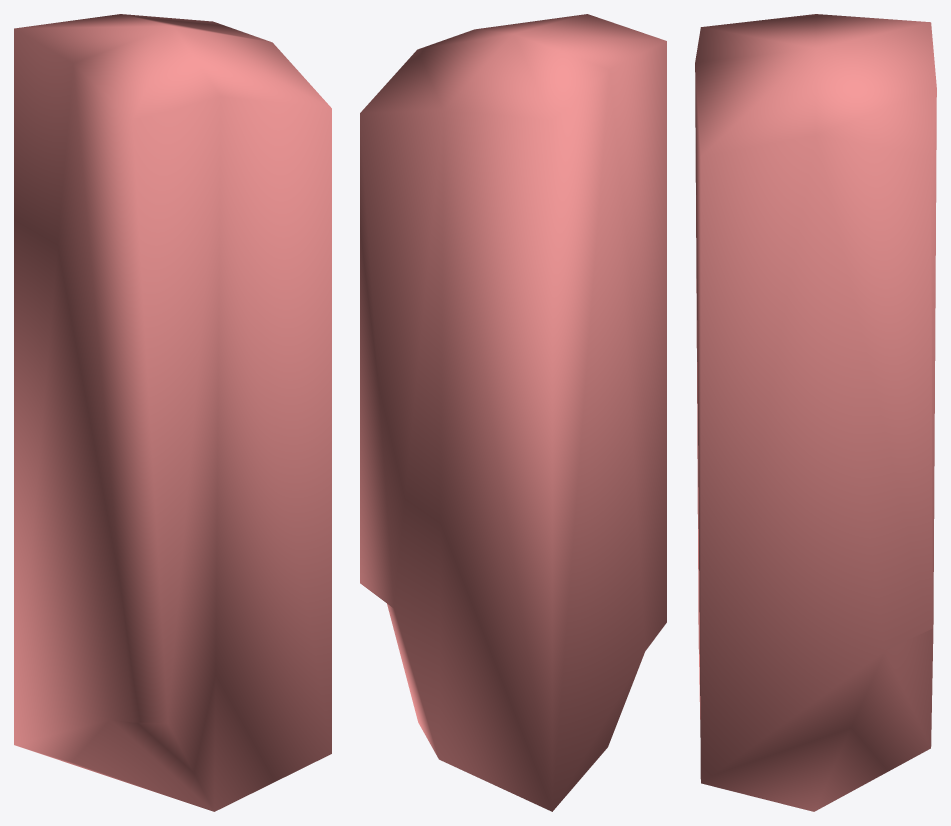
The model's file is skruins_pillar09.gltf.
3 renders of one model, left to right at view 1: azimuth 30°, elevation 25°; view 2: azimuth 150°, elevation 25°; view 3: azimuth 270°, elevation 25°, orthographic. The views are drawn at different scales.
Parts seen in each view (by area): view 1: skruins_pillar09; view 2: skruins_pillar09; view 3: skruins_pillar09.
Part boxes in pixels (box(x1,y1,x2,y2)): skruins_pillar09: box(14, 14, 331, 811); skruins_pillar09: box(360, 14, 666, 811); skruins_pillar09: box(695, 14, 936, 811).
Bounding box in the file's own units: 0.1861 × 0.6584 × 0.2015.
